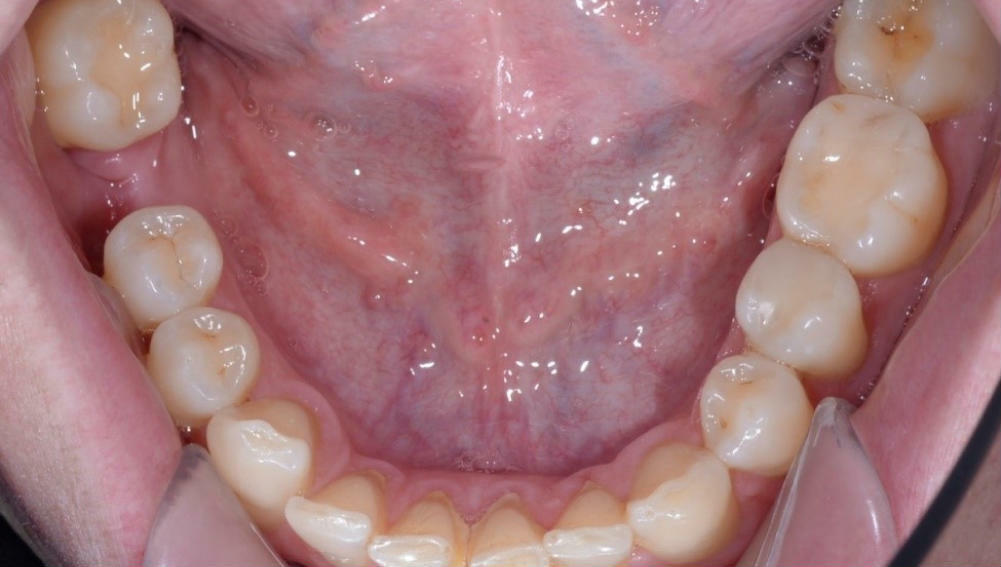LL1BC_decay: (694, 352, 814, 478)
LL1M_healthy: (775, 89, 948, 273)
LL2BC_healthy: (728, 234, 876, 381)
LL2M_decay: (809, 1, 997, 122)
LLCI_healthy: (466, 489, 543, 567)
LLC_healthy: (628, 436, 736, 560)
LLLI_healthy: (542, 481, 636, 567)
LR1BC_decay: (149, 302, 262, 430)
LR2BC_decay: (100, 202, 228, 332)
LR2M_healthy: (25, 1, 185, 154)
LRCI_healthy: (367, 496, 468, 567)
LRC_healthy: (204, 398, 315, 530)
LRLI_healthy: (286, 478, 383, 562)
